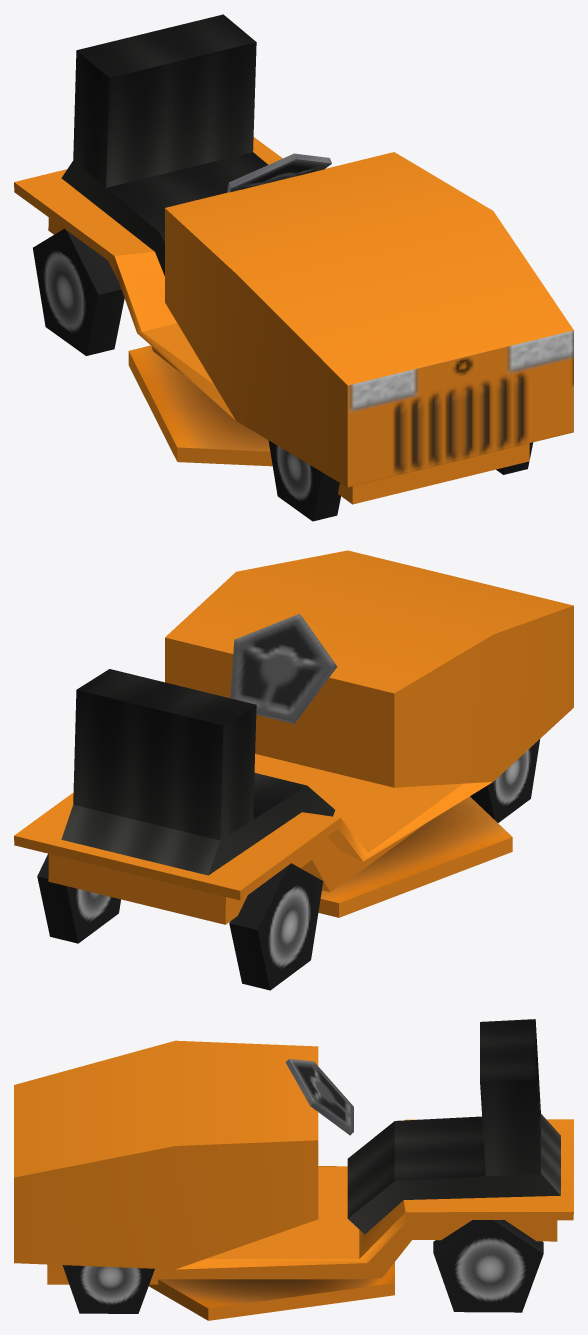
File: RidingMower.fbx
3 views of the same model, one above another, from view 1: azimuth 30°, elevation 25°; view 2: azimuth 150°, elevation 25°; view 3: azimuth 270°, elevation 25° (orthographic). The views are drawn at different scales.
Visible parts, largest first — view 1: polySurface6; view 2: polySurface6; view 3: polySurface6.
Boxes of the visible parts, x1,y1,x2,y2 form: polySurface6: [14, 14, 573, 521]; polySurface6: [14, 550, 573, 990]; polySurface6: [14, 1019, 573, 1320].
Size of the model in its own units: 1.65 by 1.27 by 2.92.
